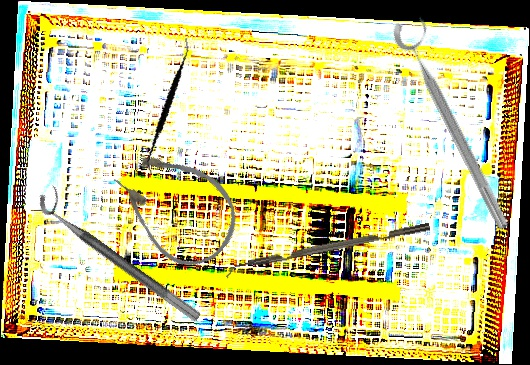Cannula: (97, 129, 255, 282)
Chopper: (223, 222, 433, 281)
Fixation Ring: (387, 10, 527, 235), (32, 182, 212, 324)
Spatula Surgical: (119, 37, 218, 175)
